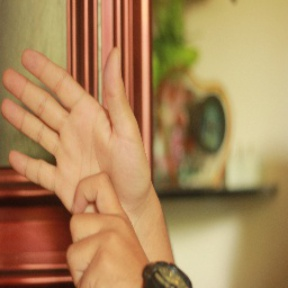R: (4, 45, 153, 288)
